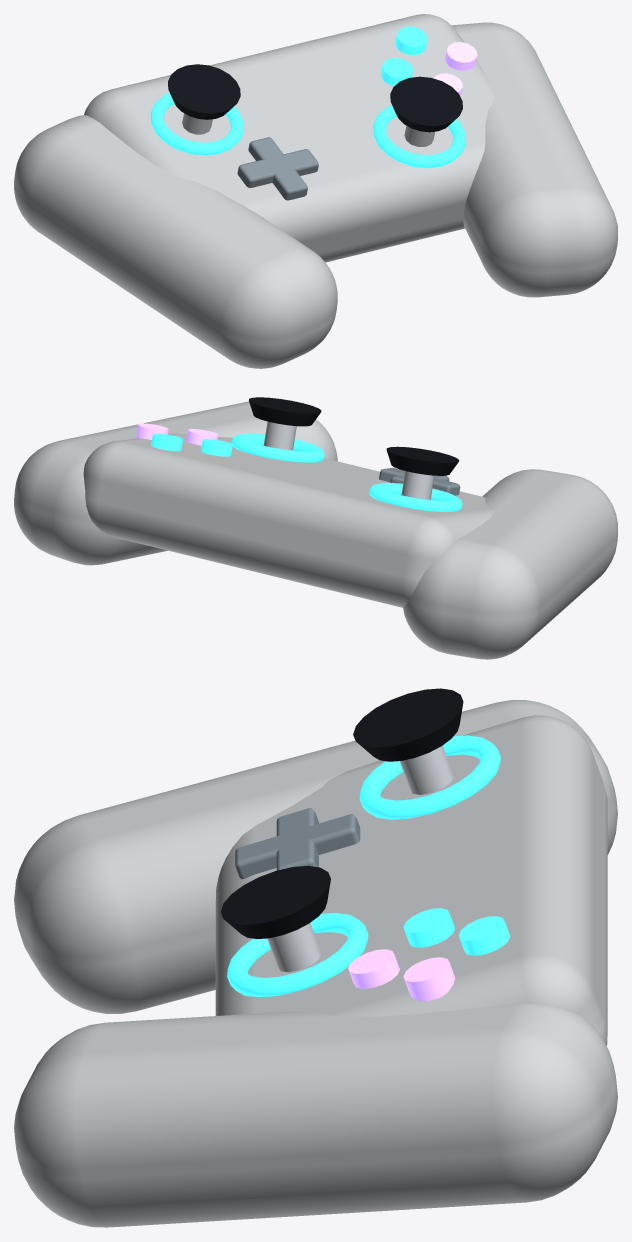
File: atelier-gaming-controller-arctic.glb
3 renders of one model, top to bottom at view 1: azimuth 30°, elevation 25°; view 2: azimuth 150°, elevation 25°; view 3: azimuth 270°, elevation 25°, orthographic. The views are drawn at different scales.
Bounding box in the file's own units: 0.1596 × 0.0606 × 0.1039.
